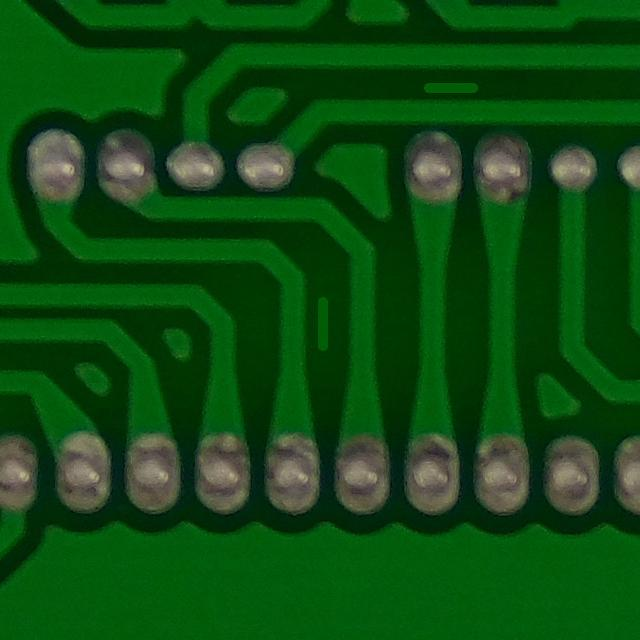spurious_copper: (293, 274, 348, 367)
